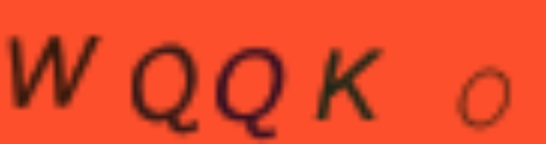K: (307, 43, 390, 125)
O: (454, 61, 516, 132)
Q: (210, 44, 289, 142), (128, 40, 206, 135)
W: (3, 30, 105, 110)
